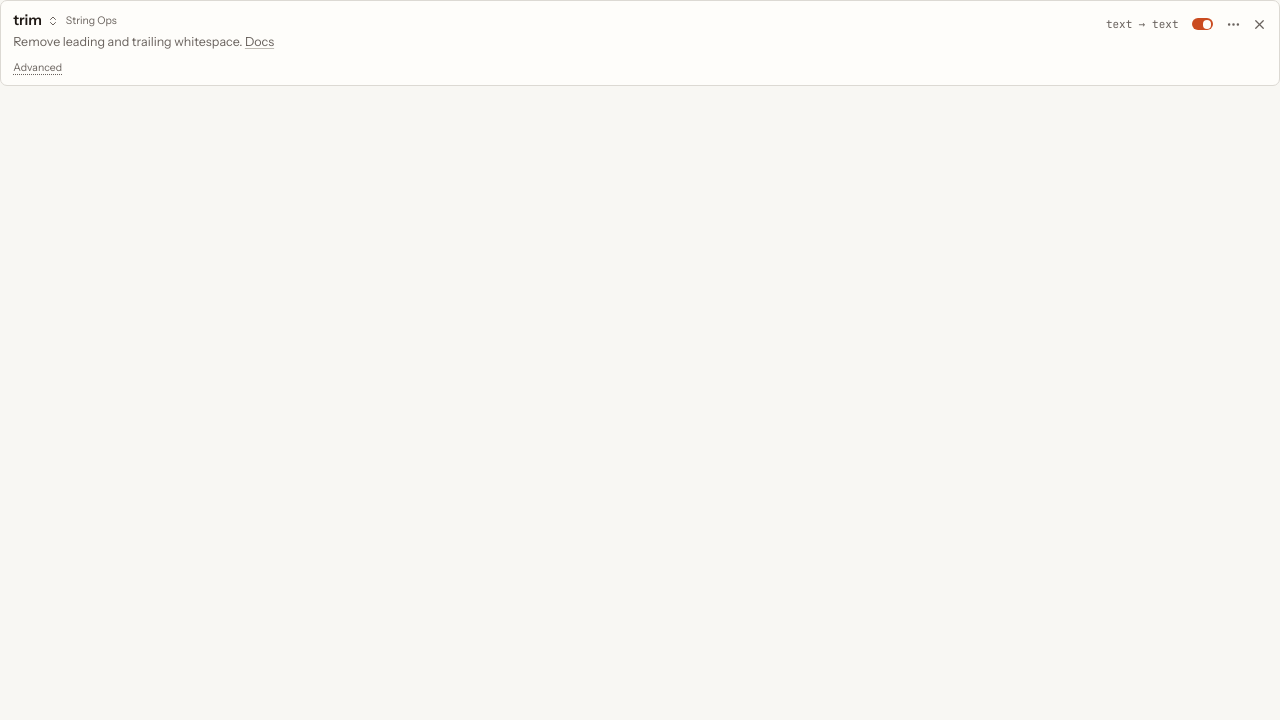
Scenario: StepCard › changes the utility from a picker opened on the step name
This screenshot has width=1280, height=720.
Click the button with aria-label "trim, change utility" at (36, 21), box top-left (13, 12), bottom-right (59, 30)
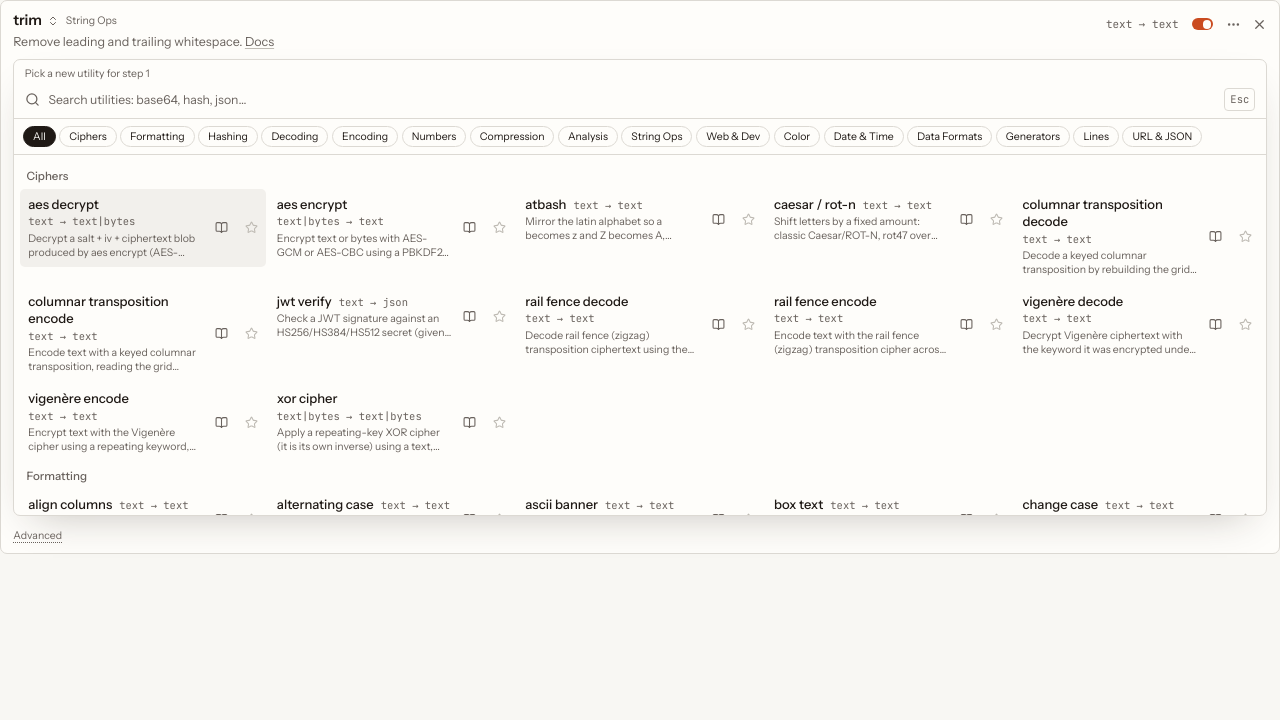
Result: the text "Pick a new utility for step 1" is shown at top-left (25, 67), bottom-right (150, 80)
Type "reverse" into the dropdown labelled "Search utilities" at (632, 100), box top-left (48, 81), bottom-right (1216, 118)
Then press Enter
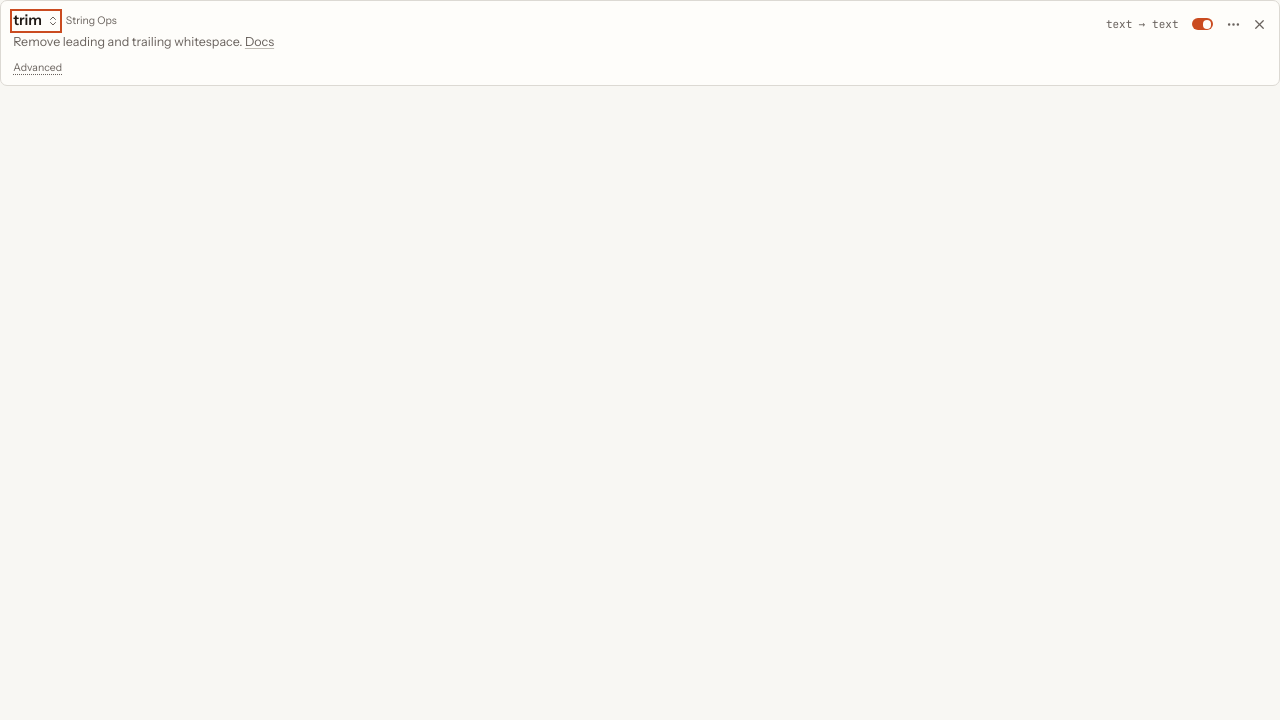
Result: the dropdown labelled "Search utilities" is gone
